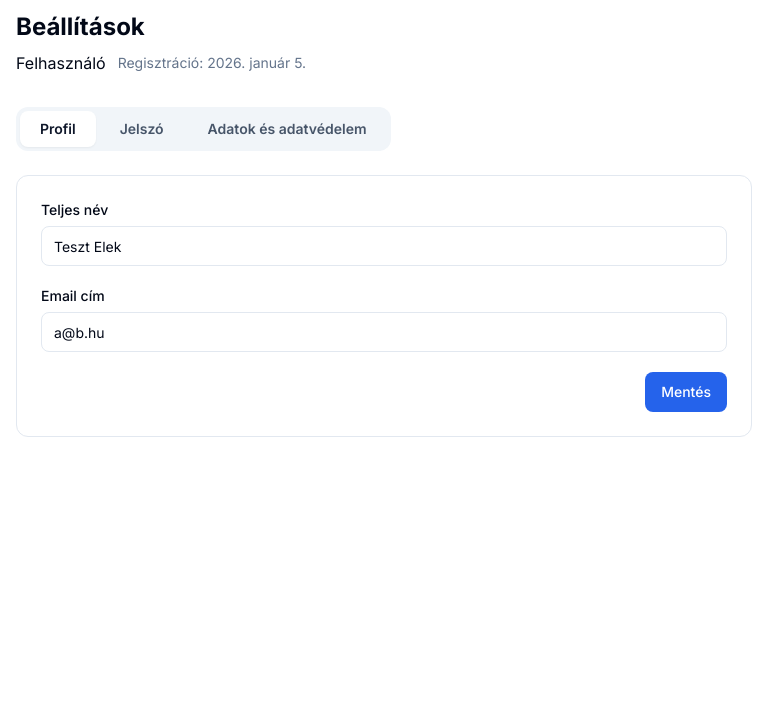
SettingsPage › eltérő jelszavaknál nem hívja a changePassword-ot és hibát jelez
Click the button "Jelszó".
click(142, 129)  # box [100,111,184,147]
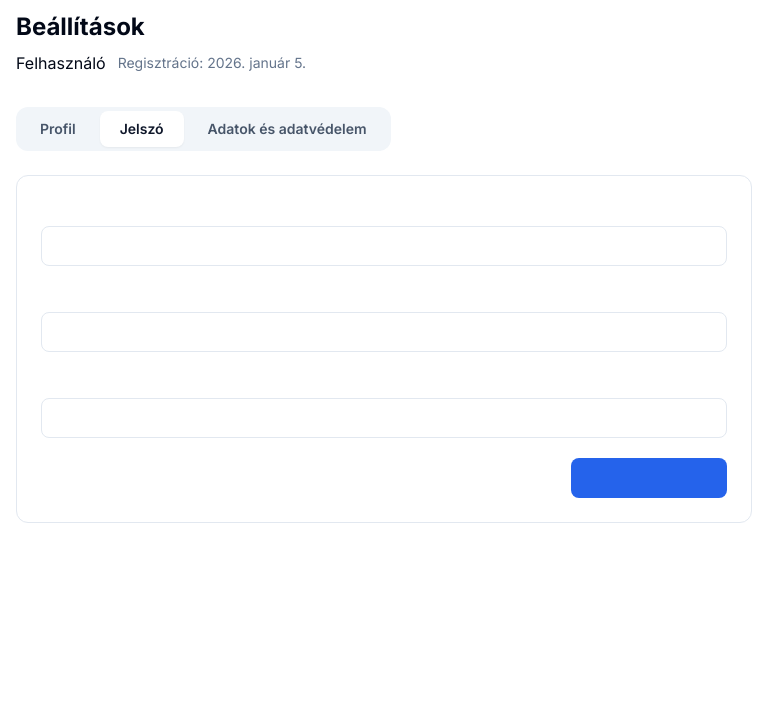
Type "Regi123!" into the password field labelled "Jelenlegi jelszó".
click(384, 246); type("Regi123!")  # box [41,226,727,266]
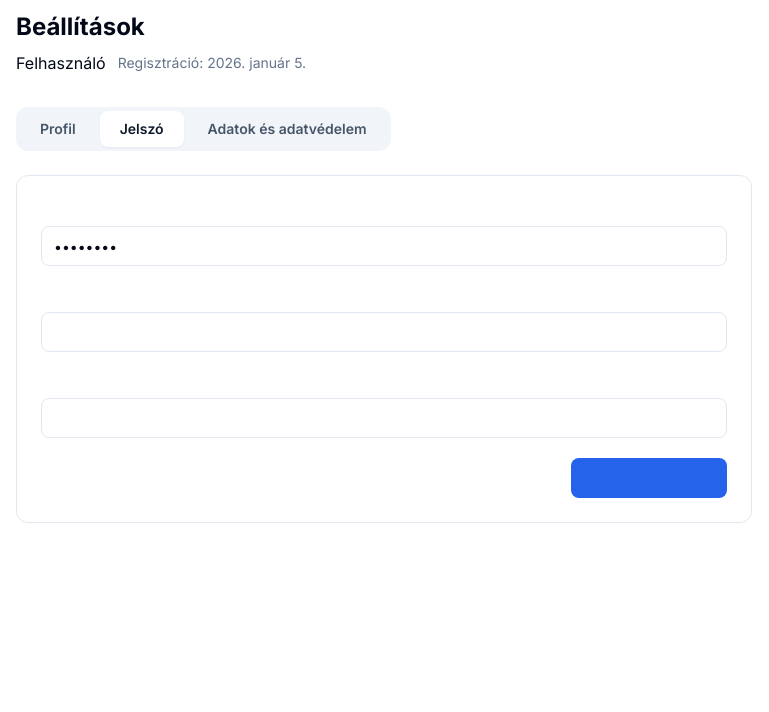
Type "UjJelszo123!" into the password field labelled "Új jelszó".
click(384, 332); type("UjJelszo123!")  # box [41,312,727,352]
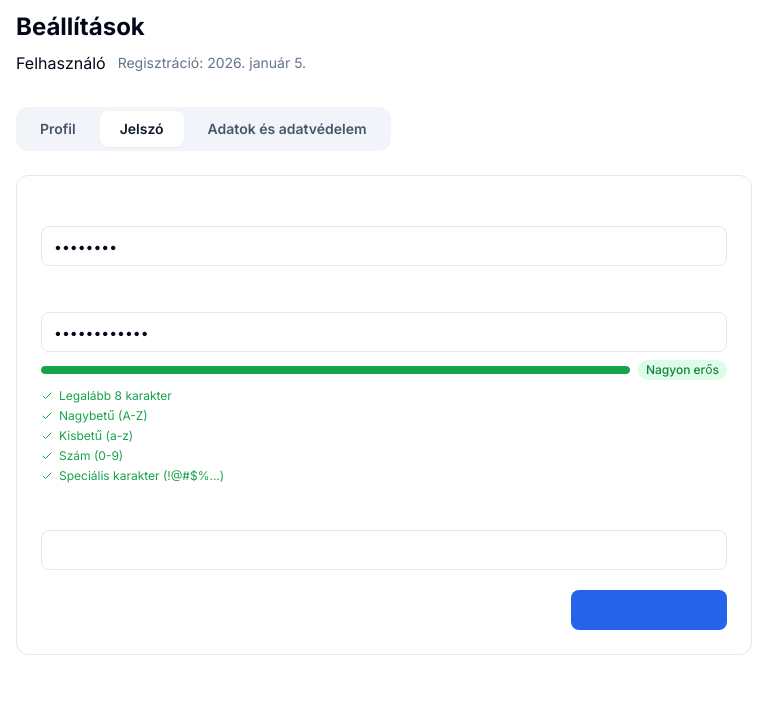
Type "MasJelszo123!" into the password field labelled "Új jelszó megerősítése".
click(384, 550); type("MasJelszo123!")  # box [41,530,727,570]
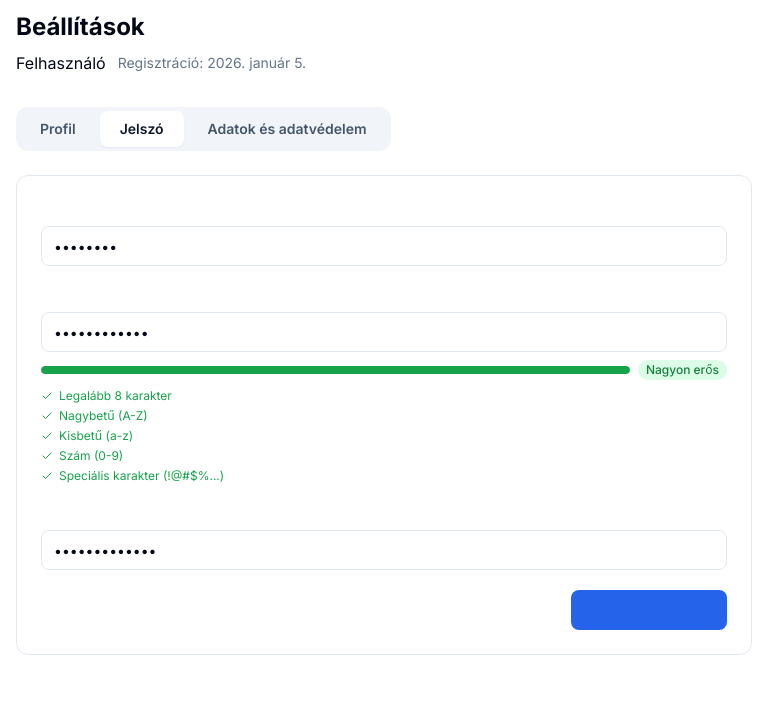
Submit the form named "Jelszó módosítása", box [41,200,727,630]
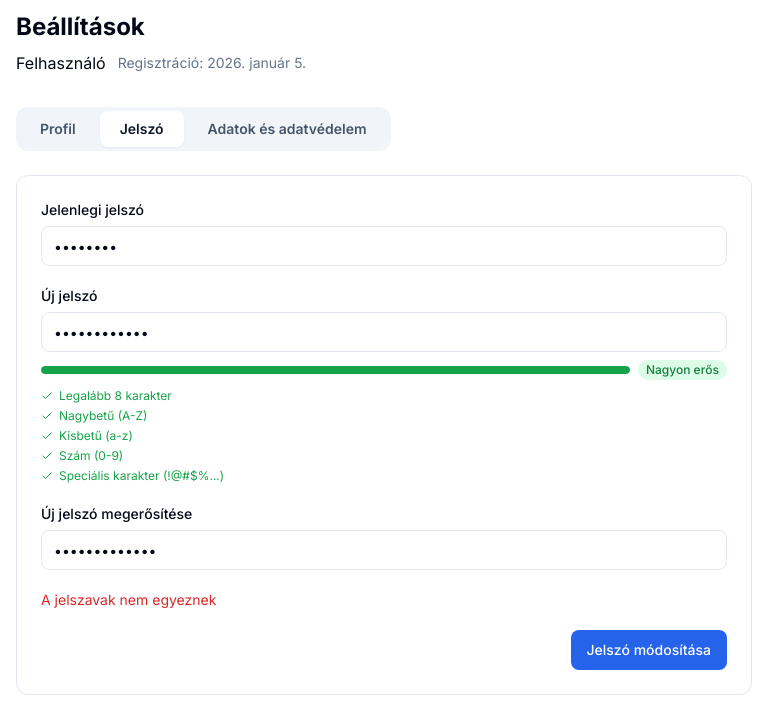
Expected: the text "A jelszavak nem egyeznek" is shown, [41,591,216,608]
